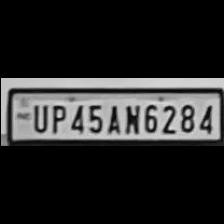2: (158, 100, 176, 134)
4: (66, 101, 86, 133), (196, 101, 214, 133)
5: (84, 101, 104, 133)
6: (140, 101, 158, 133)
8: (177, 101, 195, 133)
A: (104, 100, 122, 134)
N: (120, 100, 140, 134)
P: (46, 102, 66, 132)
U: (27, 100, 47, 132)
